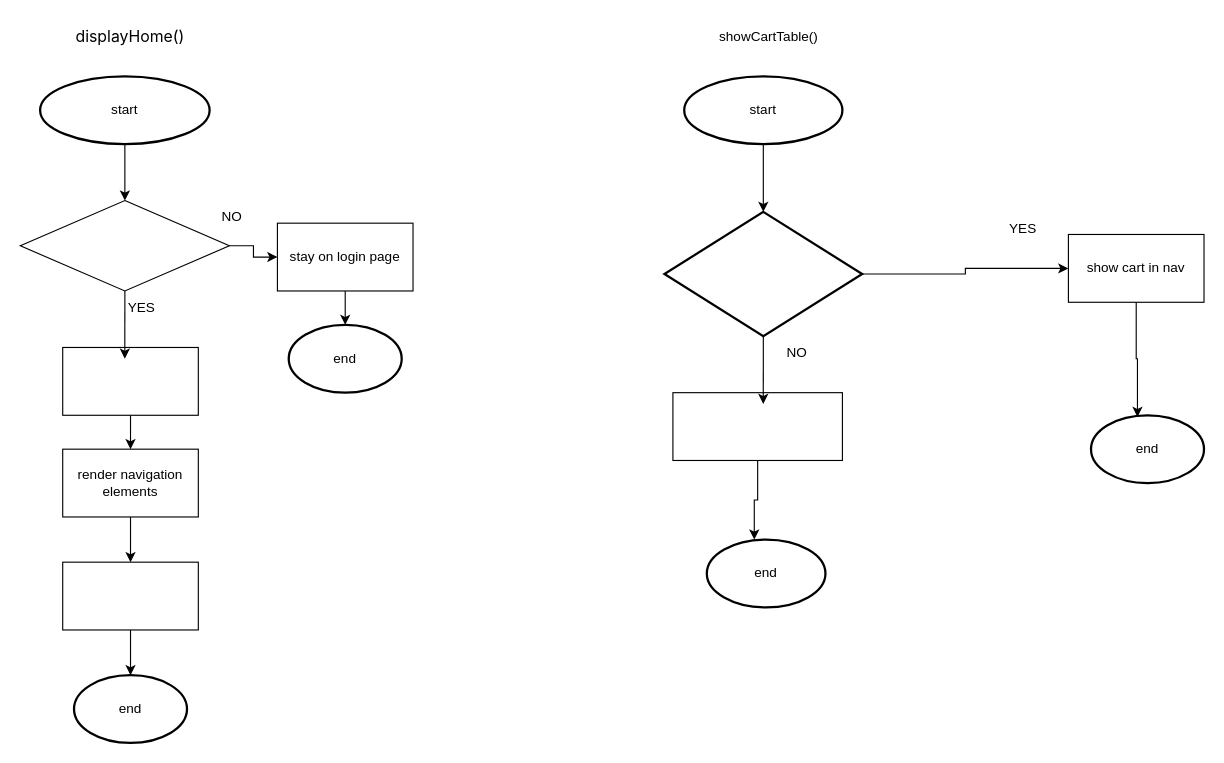
The diagram is 1224 pixels wide and 763 high, and some of its shapes have lost their labels. The shapes that lost their labels are listed below. From the top down, each one's centre as x and y in pixels, then its label:
At (124,245): "login successful?".
At (763,273): "cart items>= 1?".
At (130,380): "redirect to home page".
At (757,426): "hide cart tab from nav".
At (130,595): "home page displayed".
